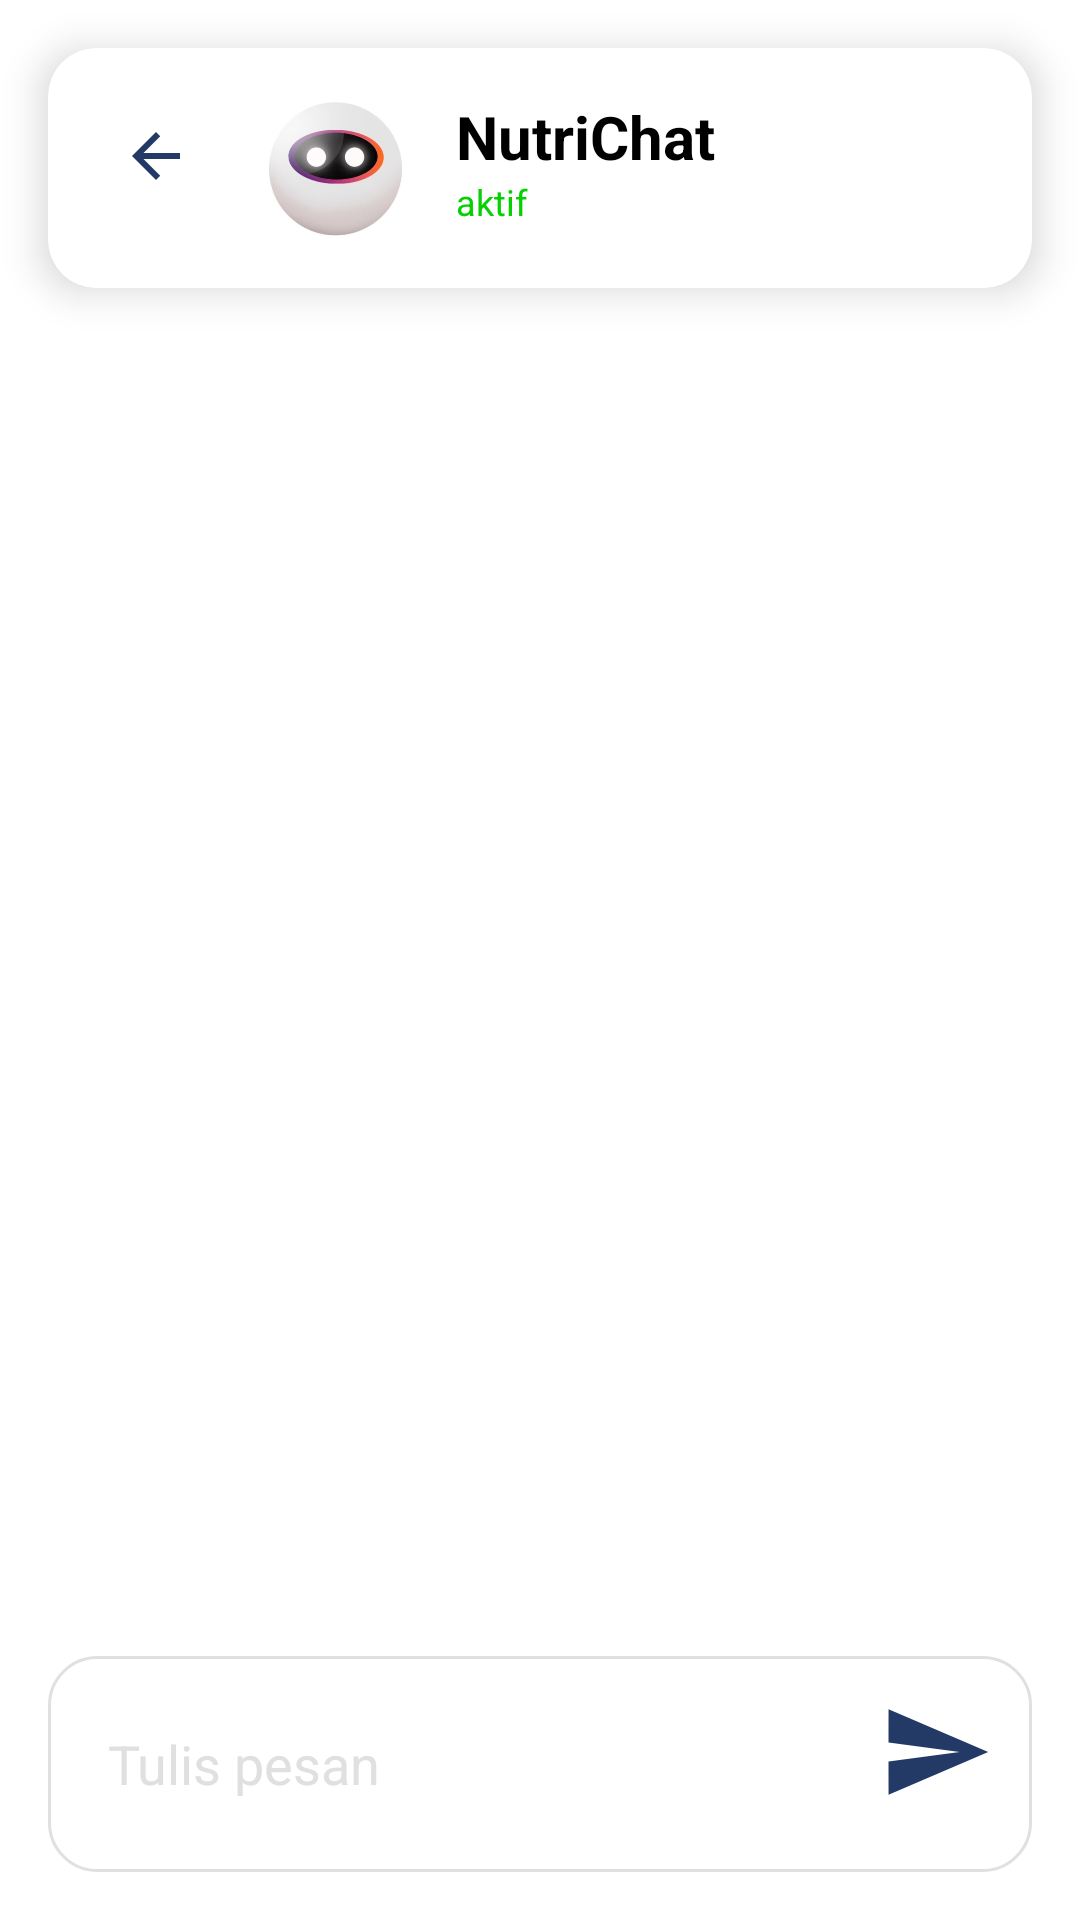

Icons on this 1080 × 1920 Android screen, each with its box as [x1=x1, y1=y1, x2=x2, y2=y2]:
Kirim pesan: [x1=888, y1=1709, x2=988, y2=1795]
Tombol Kembali: [x1=132, y1=132, x2=180, y2=180]
